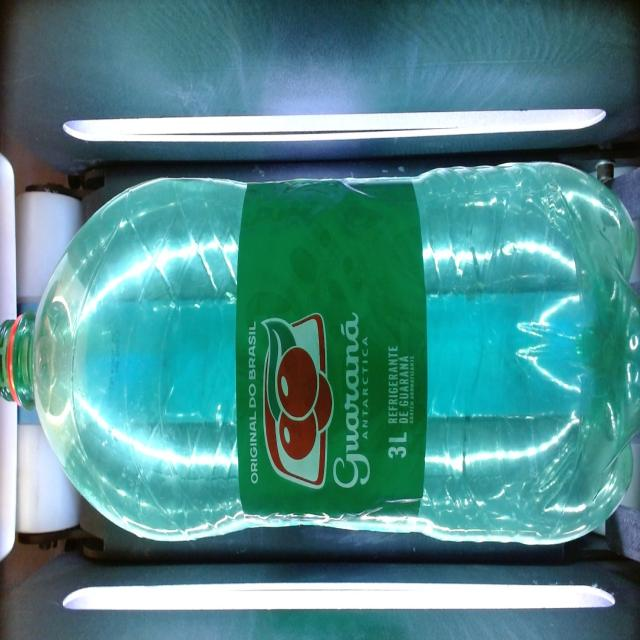bottle: (0, 162, 640, 544)
